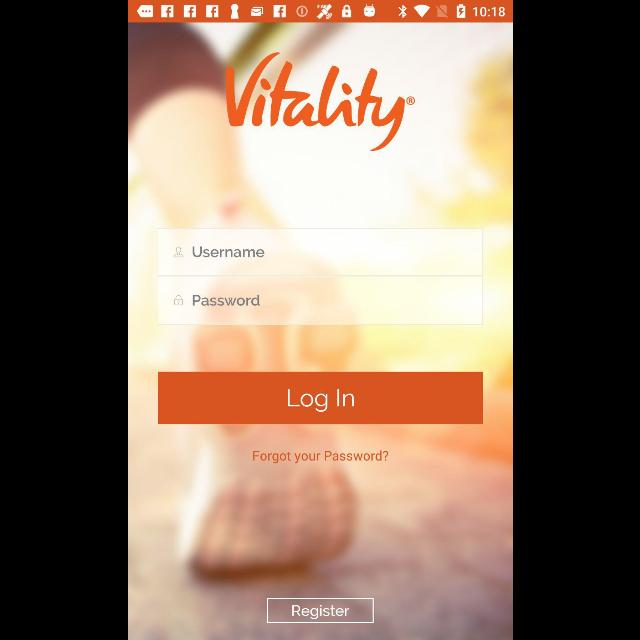backgroundimage: (128, 22, 512, 640)
icon: (173, 246, 183, 258), (174, 296, 182, 306)
image: (226, 52, 414, 152)
input: (158, 228, 482, 276), (158, 277, 482, 325)
text: (252, 450, 388, 464), (192, 246, 264, 258), (192, 296, 258, 306)
textbutton: (158, 372, 482, 424), (266, 598, 374, 624)
uppertaskbar: (128, 1, 512, 23)
